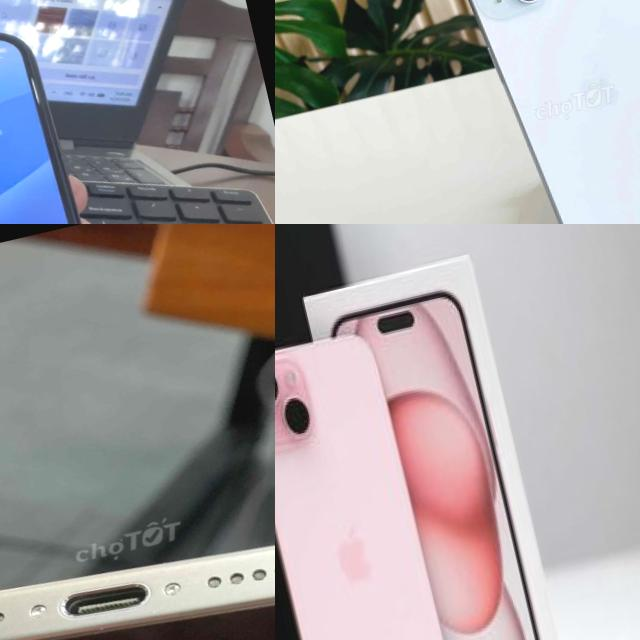gen_15: (275, 317, 479, 640), (0, 452, 275, 640), (433, 0, 640, 224)
gen_x_xs: (0, 0, 162, 224)
